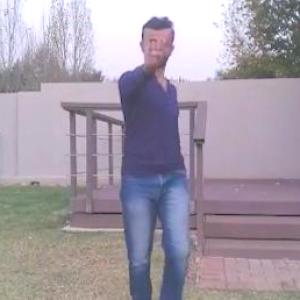takeoff-hand: (136, 20, 174, 70)
